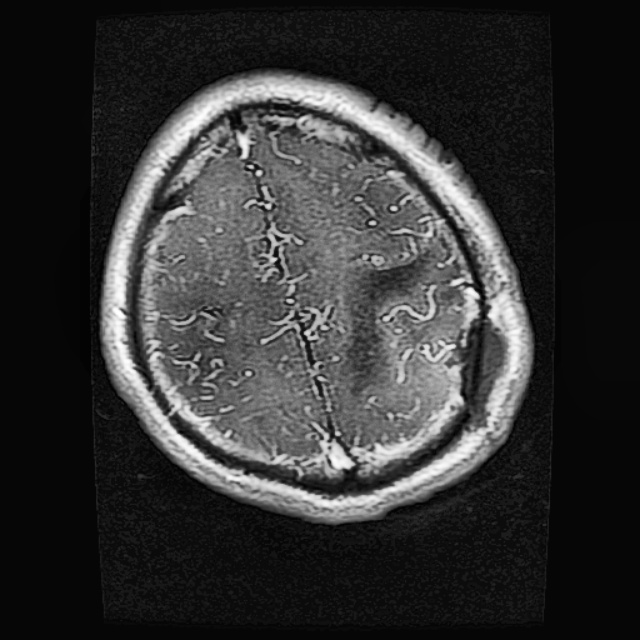Pituitary: (452, 317, 508, 420)
